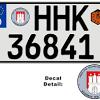1: (78, 33, 94, 60)
3: (7, 33, 23, 60)
4: (60, 33, 77, 60)
6: (25, 34, 41, 59)
8: (43, 34, 59, 60)
H: (52, 4, 70, 32), (34, 4, 51, 32)
K: (71, 4, 89, 32)
